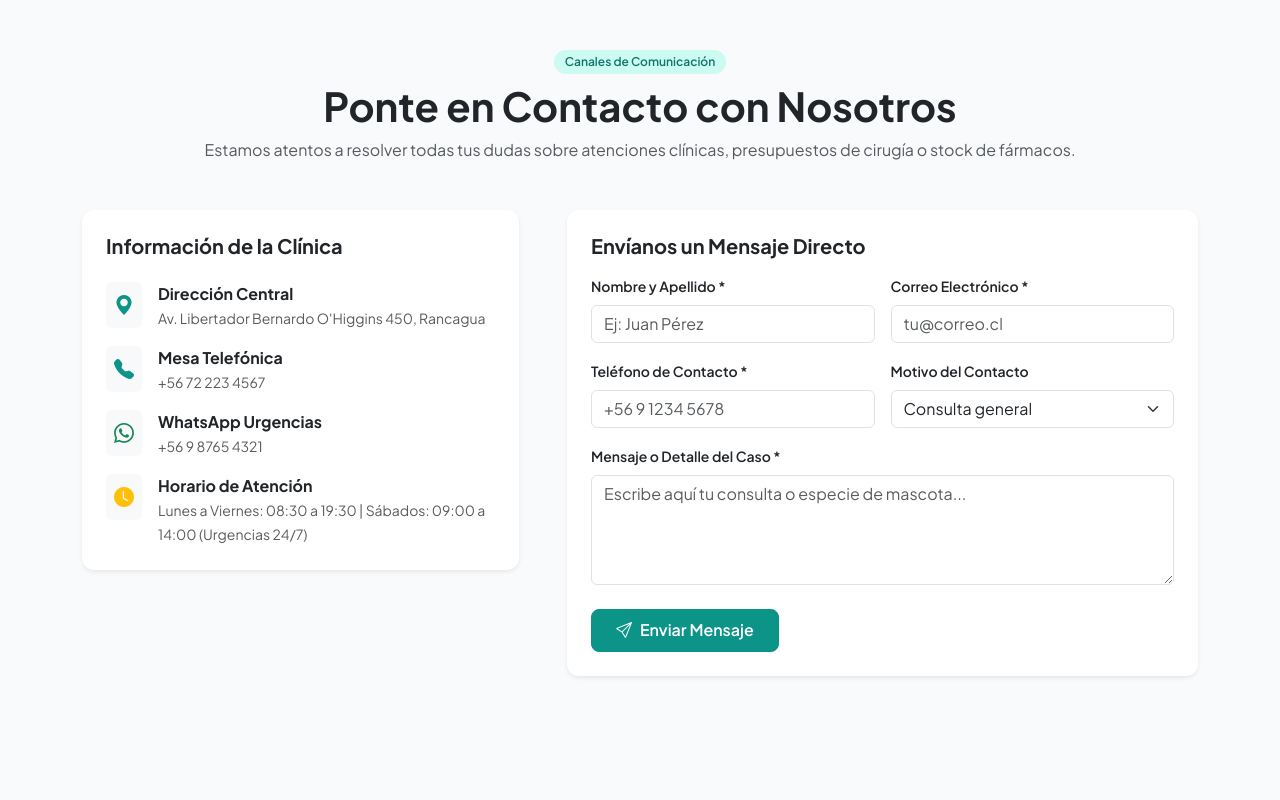
it: Formularios, Validaciones y Eventos › 7. Contact valida campos obligatorios y formato de correo electrónico
Click the button "Enviar Mensaje". click: (685, 630)
box: [591,609,779,652]
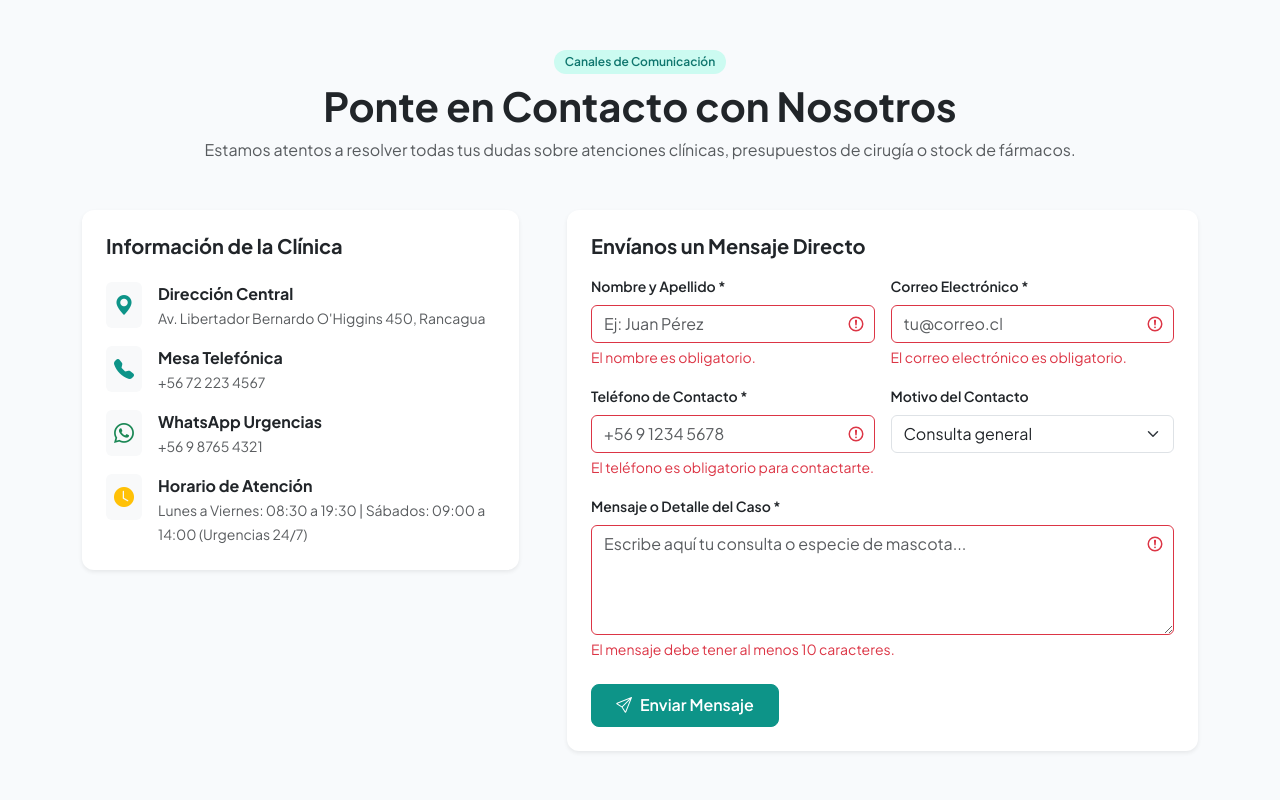
Check: the text "El nombre es obligatorio." is shown, box [591,348,756,366]
Check: the text "El correo electrónico es obligatorio." is shown, box [890,348,1127,366]
Check: the text "El teléfono es obligatorio para contactarte." is shown, box [591,457,874,478]
